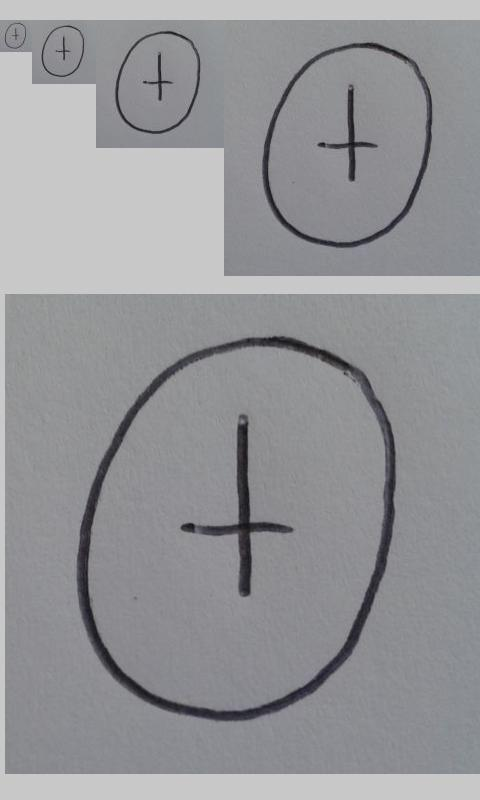button: (76, 334, 398, 725), (262, 42, 433, 249), (114, 31, 202, 134), (41, 25, 85, 78), (4, 22, 27, 49)
